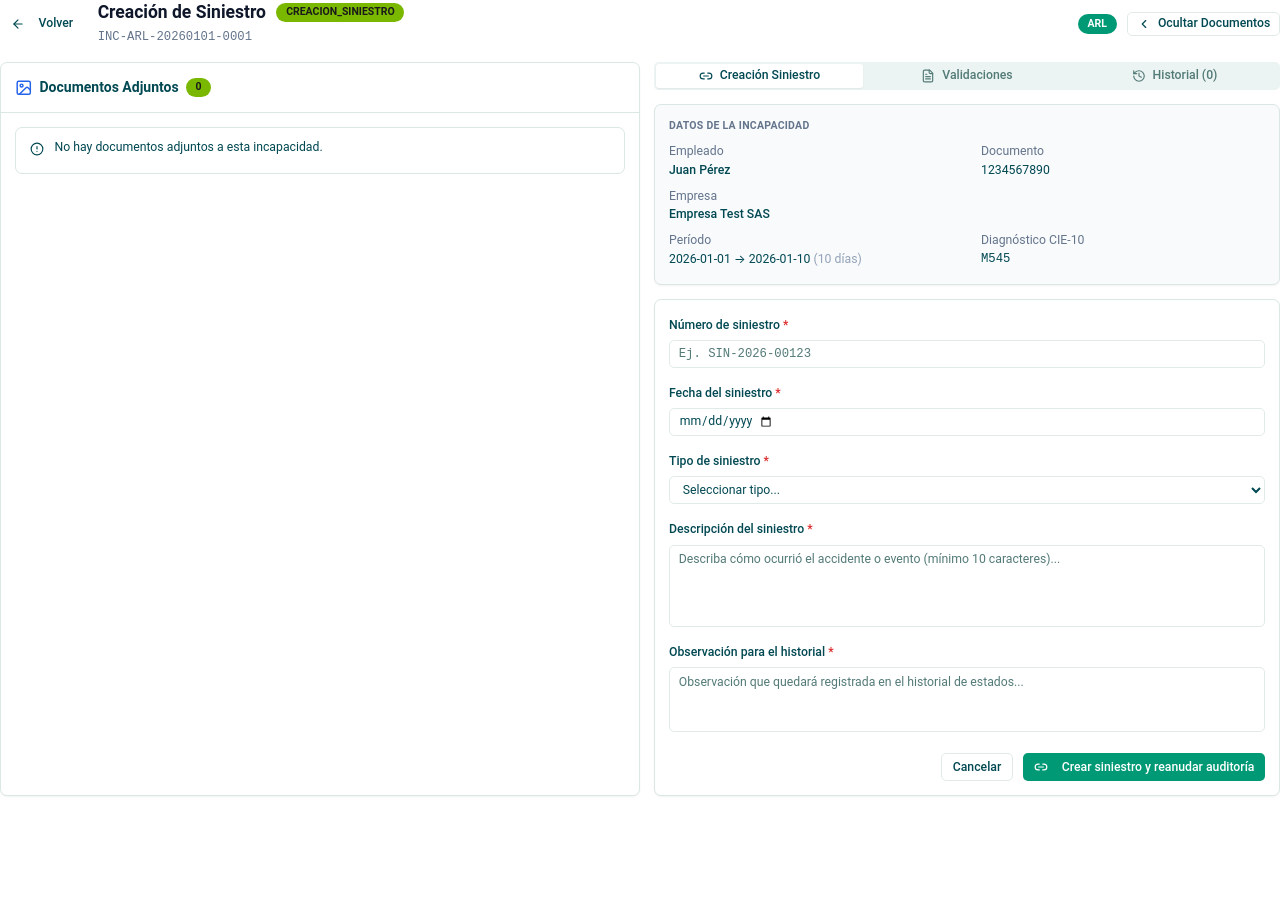
Test: CreacionSiniestroPage › shows validation errors when fields are empty on submit
The image size is (1280, 900).
Click the button "Crear siniestro y reanudar auditoría" at (1144,767), box [1023,753,1265,781]
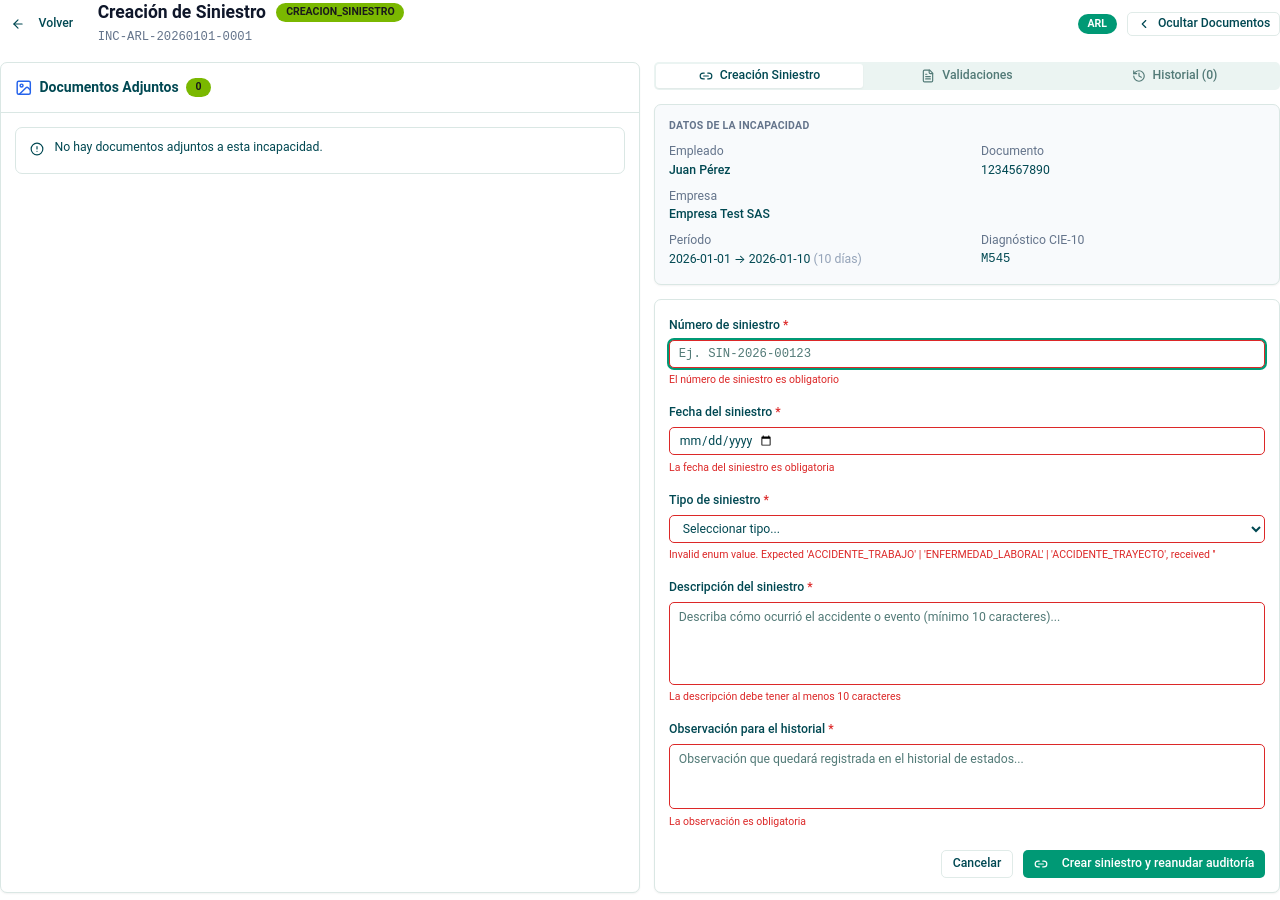
Expected: the text "La fecha del siniestro es obligatoria" is shown, [669,461,834,474]
